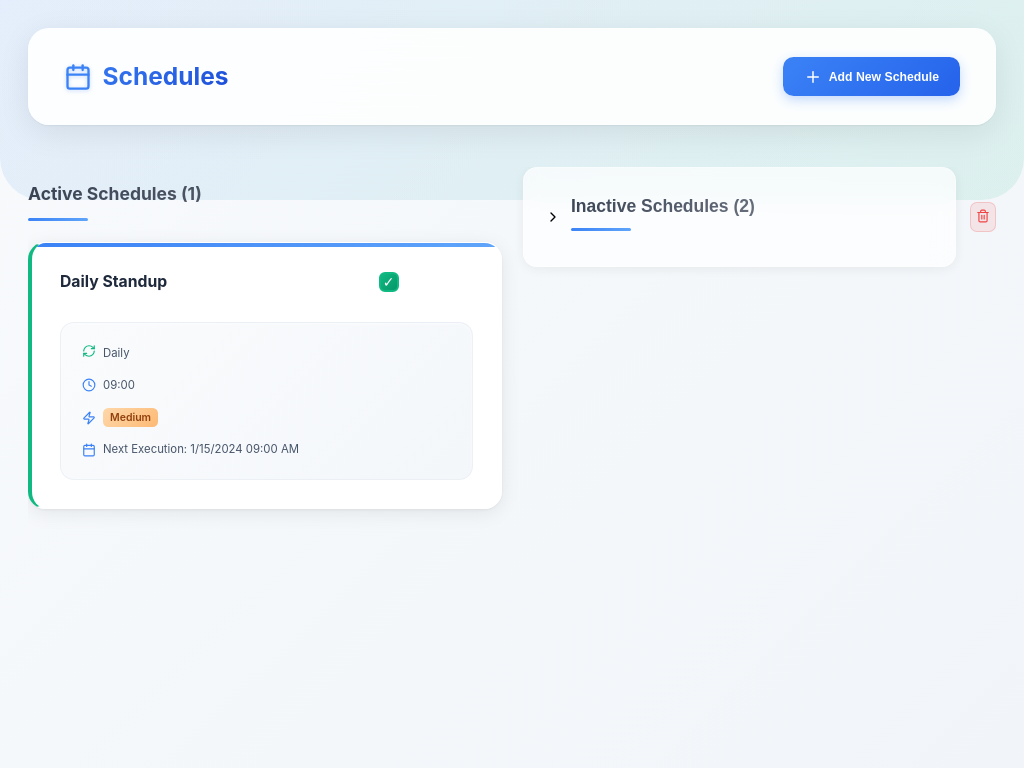
Test: ScheduleView › renders schedule list when schedules exist
Expected: the heading "Daily Standup" is shown, [60,272,167,291]
Click the button "Inactive Schedules (2)". click: (739, 217)
box: [522,167,956,267]
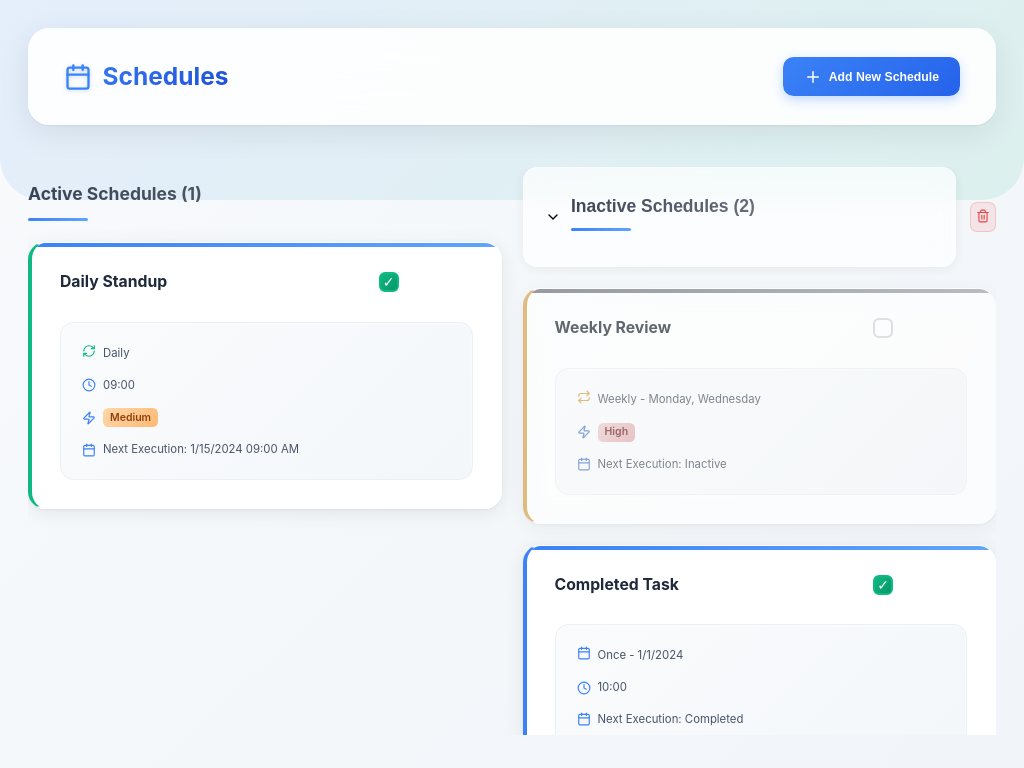
Now the heading "Weekly Review" is shown, box [554,318,671,337]
